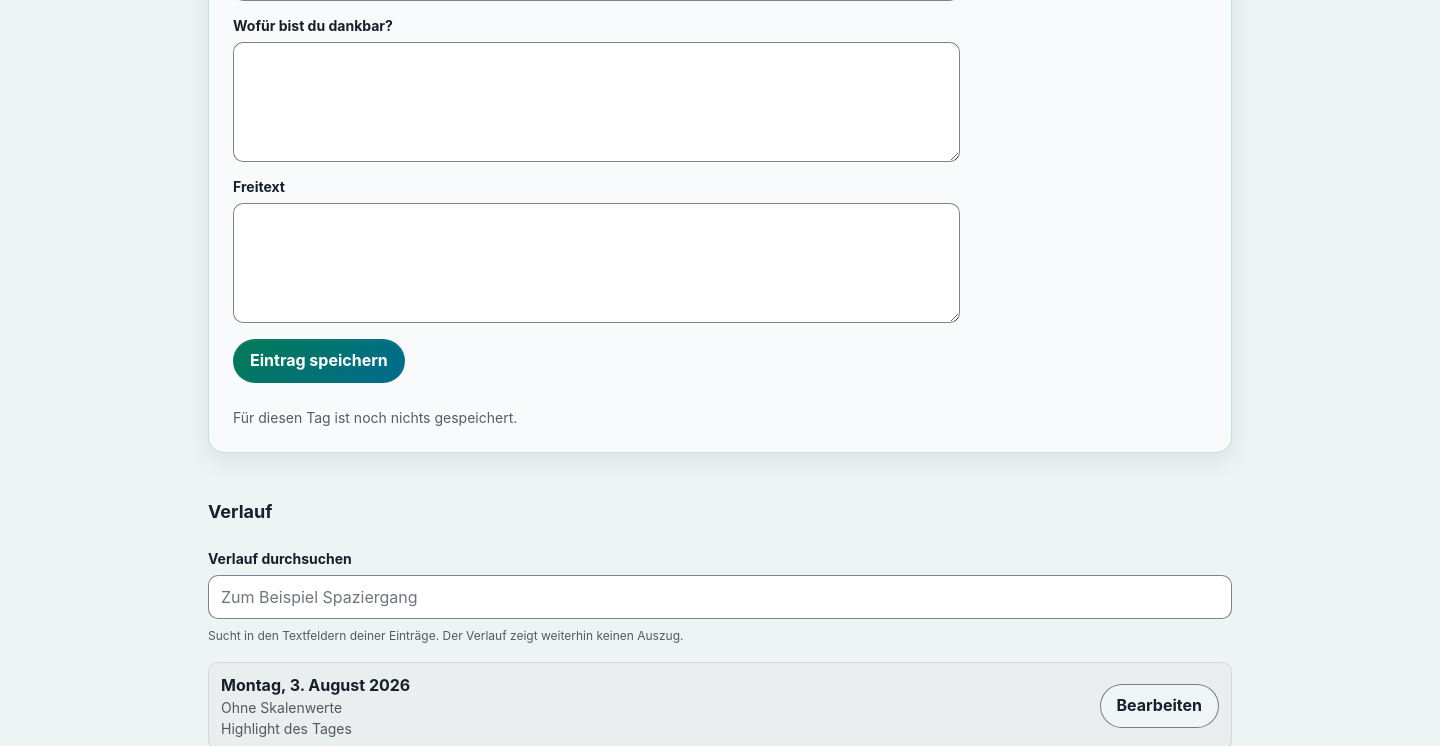
Test: JournalPage › separates an empty result from a history without entries
The image size is (1440, 746).
(page scrolled)
In the search field labelled "Verlauf durchsuchen": (720, 597) [208,575,1232,619], type "Segeltörn"
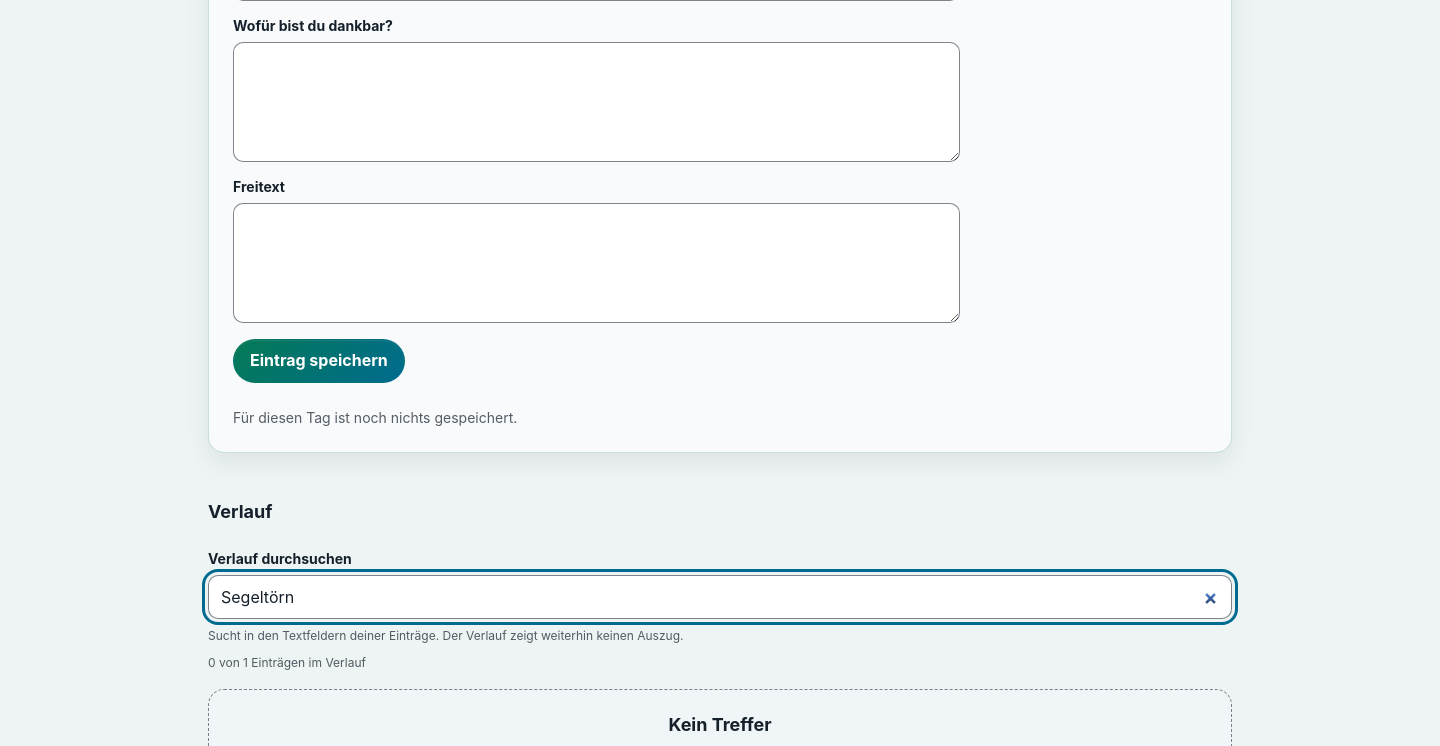
Expected: the heading "Kein Treffer" is shown, [668,714,772,735]
